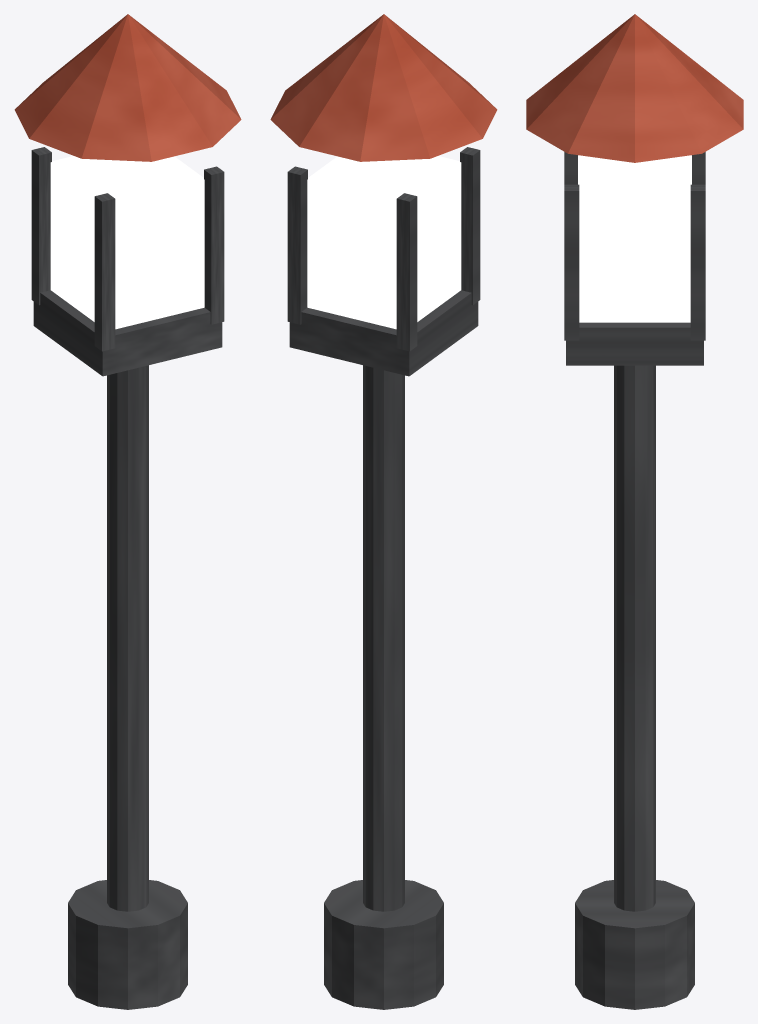
Rendered from lantaarnpaal.glb.
The picture shows the model from 3 angles, left to right: view 1: azimuth 30°, elevation 25°; view 2: azimuth 150°, elevation 25°; view 3: azimuth 270°, elevation 25°; orthographic projection.
Visible parts, largest first — view 1: world; view 2: world; view 3: world.
Part boxes in pixels (<box>): world: <box>14,14,241,1009</box>; world: <box>270,14,497,1009</box>; world: <box>526,14,743,1009</box>.
Size of the model in its own units: 0.6396 by 3 by 0.6082.
Materials: 2 (1 with a texture image).
